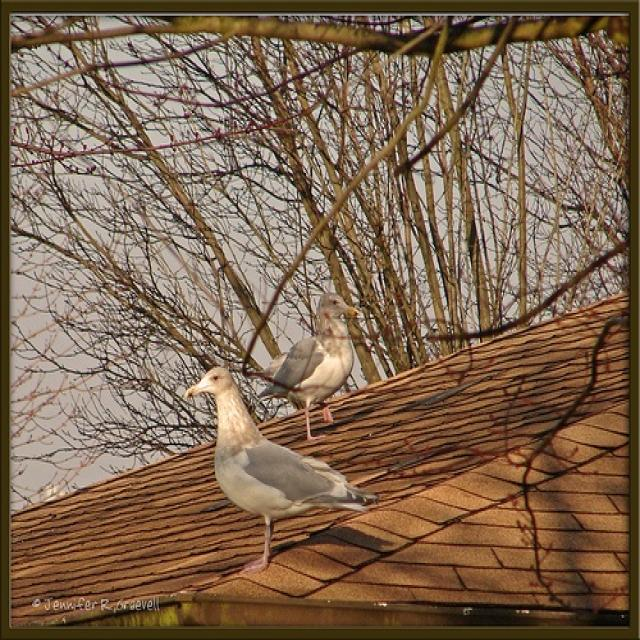bird: (182, 365, 388, 577), (251, 291, 362, 445)
